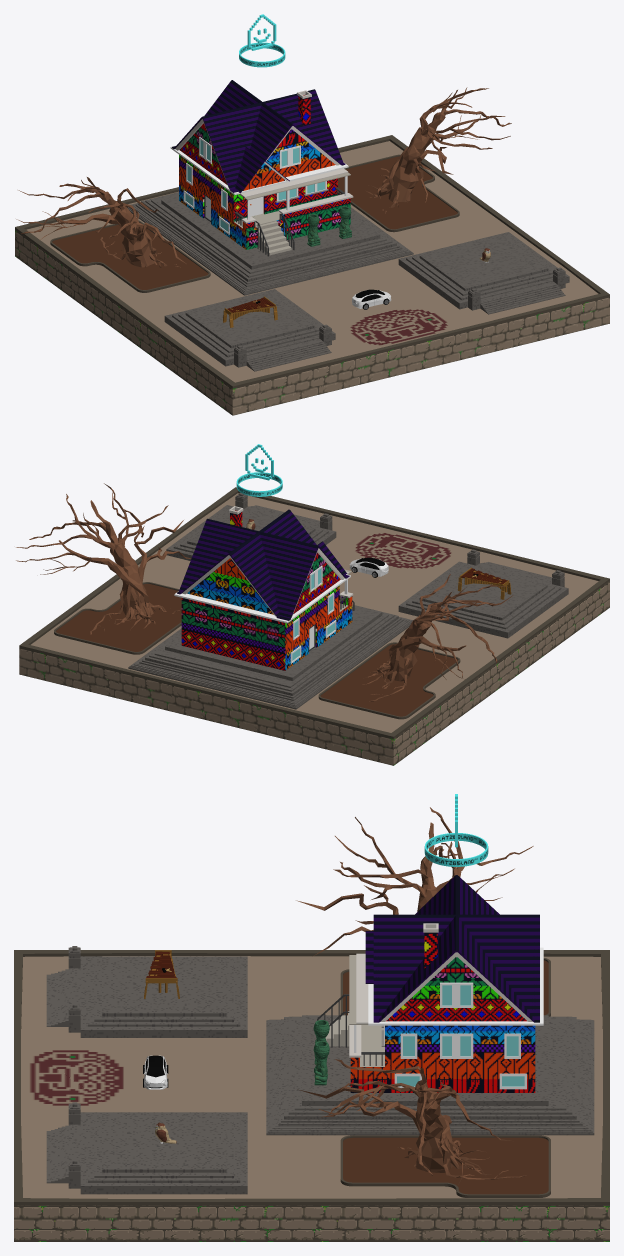
3 renders of one model, top to bottom at view 1: azimuth 30°, elevation 25°; view 2: azimuth 150°, elevation 25°; view 3: azimuth 270°, elevation 25°, orthographic. The views are drawn at different scales.
Parts seen in each view (by area): view 1: Cube.011, Cube.966, TYPE_PREMIUM, OBJRANDOM_MARIMBA, VEHICLES_TESLA; view 2: Cube.011, Cube.966, TYPE_PREMIUM, OBJRANDOM_MARIMBA, VEHICLES_TESLA; view 3: Cube.011, Cube.966, TYPE_PREMIUM, OBJRANDOM_MARIMBA, VEHICLES_TESLA.
Part boxes in pixels (left/top/right/bottom): Cube.011: left=15, top=87, right=609, bottom=415; Cube.966: left=170, top=80, right=353, bottom=256; TYPE_PREMIUM: left=239, top=14, right=285, bottom=67; OBJRANDOM_MARIMBA: left=223, top=296, right=277, bottom=327; VEHICLES_TESLA: left=352, top=289, right=391, bottom=309; Cube.011: left=16, top=483, right=609, bottom=765; Cube.966: left=174, top=506, right=354, bottom=670; TYPE_PREMIUM: left=236, top=444, right=282, bottom=496; OBJRANDOM_MARIMBA: left=458, top=567, right=511, bottom=599; VEHICLES_TESLA: left=349, top=557, right=388, bottom=577; Cube.011: left=14, top=807, right=609, bottom=1241; Cube.966: left=317, top=875, right=543, bottom=1092; TYPE_PREMIUM: left=424, top=794, right=488, bottom=866; OBJRANDOM_MARIMBA: left=144, top=950, right=179, bottom=998; VEHICLES_TESLA: left=143, top=1055, right=168, bottom=1089.
Bounding box in the file's own units: 5099 × 2467 × 4000.
45 materials, 10 textured.
